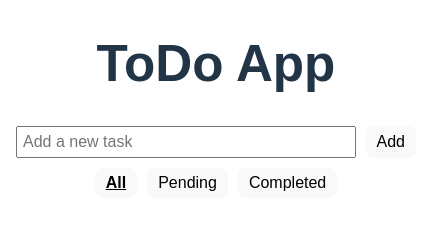
ToDo App › deletes a task when delete button is clicked
Type "Task to delete" into the field with placeholder "Add a new task".
click(186, 142); type("Task to delete")  # box [16,126,356,158]
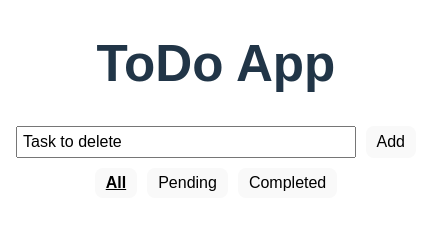
Click the button "Add".
click(391, 142)  # box [366,126,416,158]
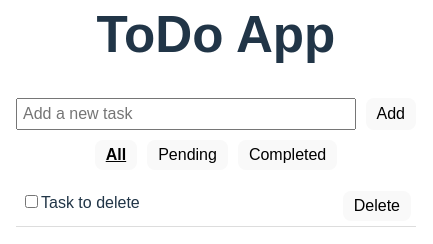
Expected: the button "Delete" is shown
Click the button "Delete".
click(377, 206)  # box [343,191,411,221]
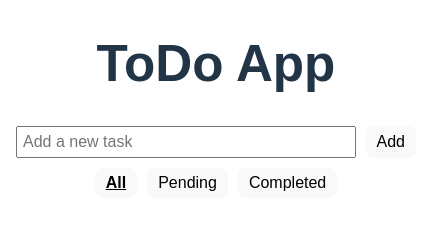
Expected: the text "Task to delete" is gone
